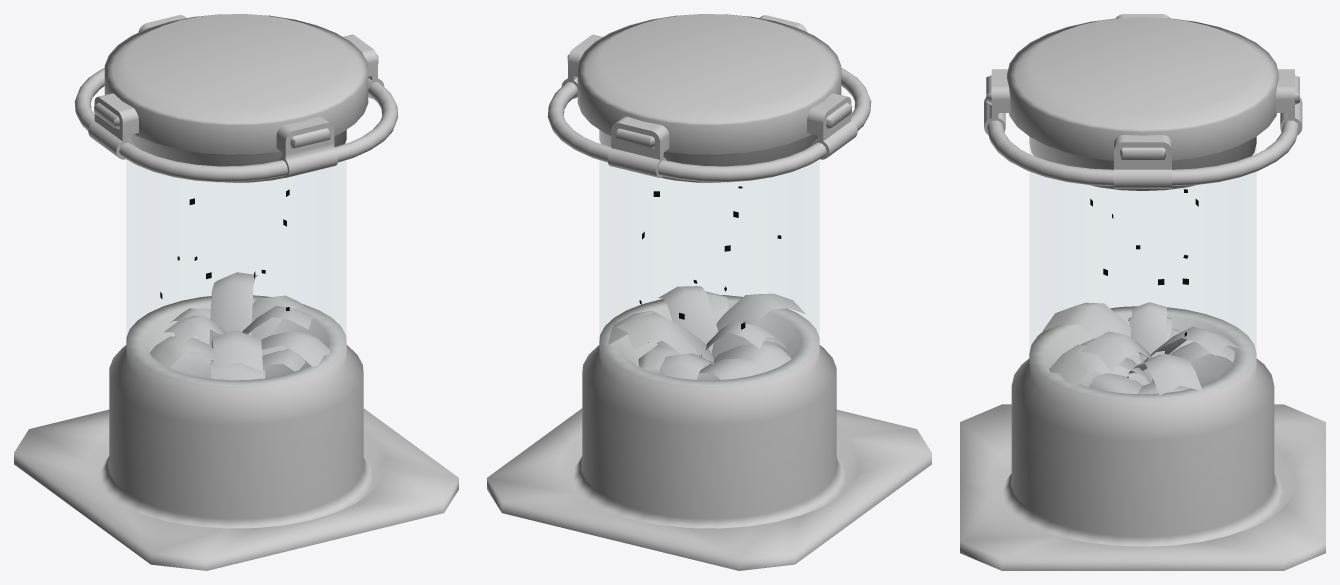
File: HydroUnit_01.fbx
3 views of the same model, side by side, from view 1: azimuth 30°, elevation 25°; view 2: azimuth 150°, elevation 25°; view 3: azimuth 270°, elevation 25° (orthographic). The views are drawn at different scales.
Visible parts, largest first — view 1: HydroUnit_02; view 2: HydroUnit_02; view 3: HydroUnit_02.
Part boxes in pixels (x1,y1,x2,y2): HydroUnit_02: (14, 14, 458, 570); HydroUnit_02: (487, 14, 931, 570); HydroUnit_02: (960, 14, 1325, 570).
Size of the model in its own units: 328 by 424 by 328.
